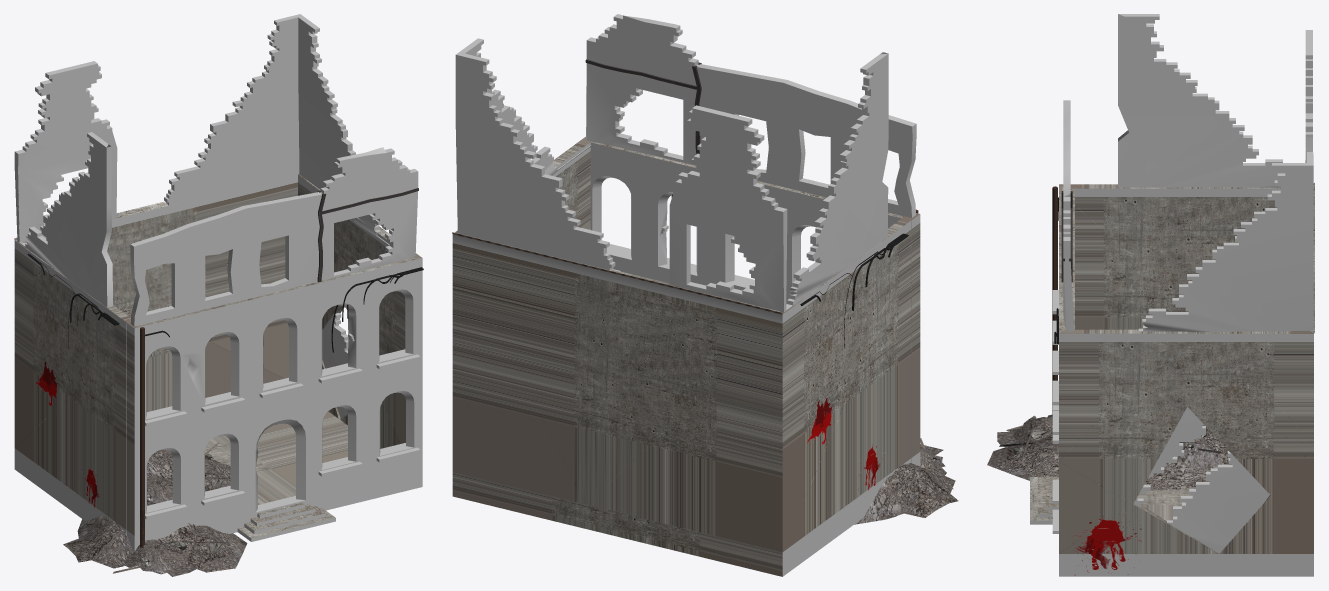
The picture shows the model from 3 angles, left to right: view 1: azimuth 30°, elevation 25°; view 2: azimuth 150°, elevation 25°; view 3: azimuth 270°, elevation 25°; orthographic projection. The views are drawn at different scales.
Parts seen in each view (by area): view 1: polymsh1, Default_Layer17, Default_Layer16, shutt4, shutt5, Default_Layer18, Cables6, Cables5; view 2: polymsh1, Default_Layer17, Default_Layer16, shutt4, Cables5; view 3: polymsh1, Default_Layer17, Default_Layer16, Default_Layer18, shutt4, shutt5, cube, Default_Layer19.
Part boxes in pixels (x1,y1,x2,y2): polymsh1: (14,174,422,551); Default_Layer17: (130,14,418,326); Default_Layer16: (14,61,117,307); shutt4: (63,500,247,576); shutt5: (147,442,230,503); Default_Layer18: (322,313,348,418); Cables6: (145,267,423,352); Cables5: (27,253,119,348); polymsh1: (452,137,920,576); Default_Layer17: (455,14,916,271); Default_Layer16: (669,52,888,312); shutt4: (854,438,958,524); Cables5: (800,233,908,348); polymsh1: (1030,182,1314,576); Default_Layer17: (1061,100,1313,332); Default_Layer16: (1118,14,1312,187); Default_Layer18: (1166,451,1269,553); shutt4: (987,414,1058,480); shutt5: (1144,425,1232,490); cube: (1072,513,1141,575); Default_Layer19: (1134,407,1205,507).
Size of the model in its own units: 10.41 by 11.86 by 8.36.
